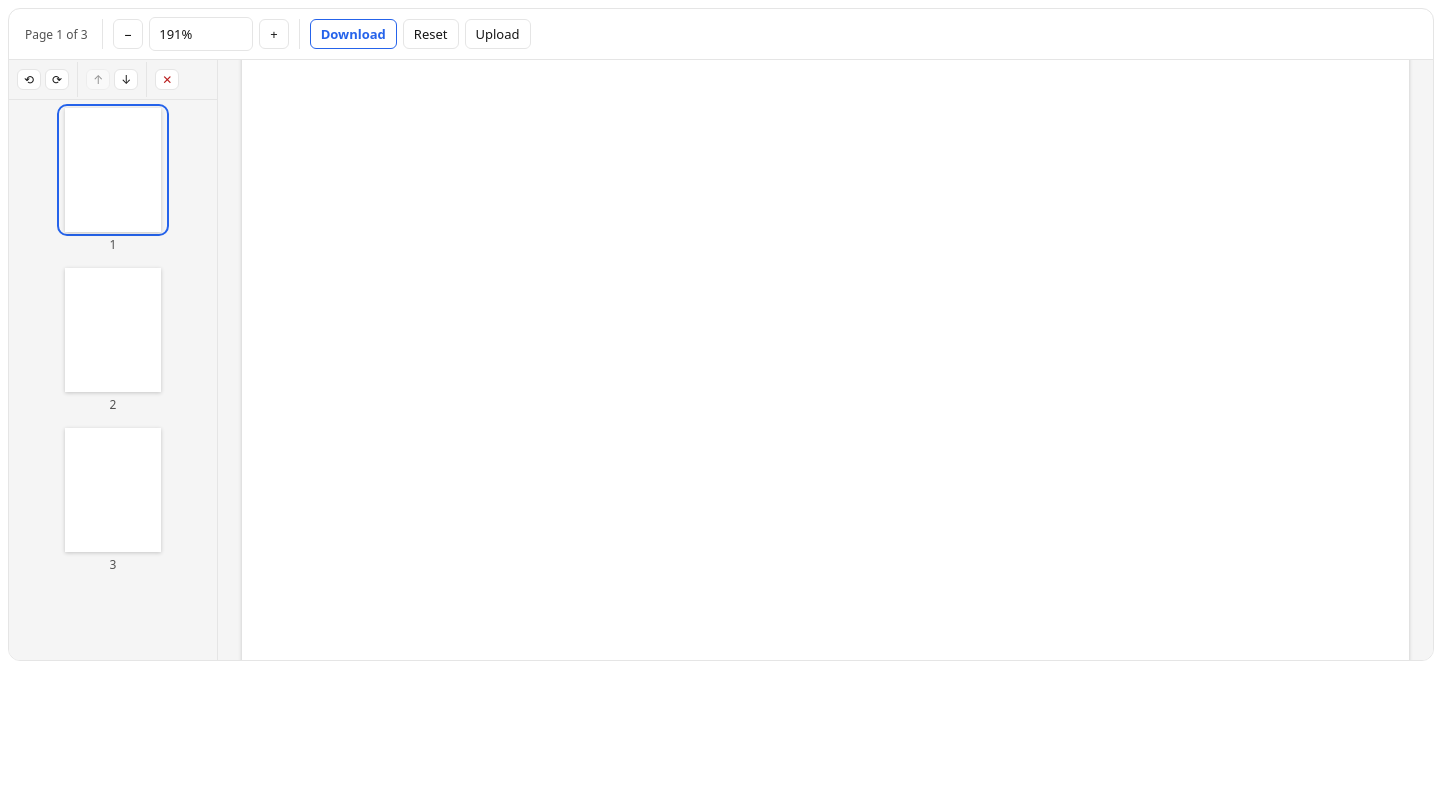
Test: PdfEditor › reports the active page when delete or move changes the selection
(page scrolled)
Expected: the text "Page 1 of 3" is shown, [21,26,92,42]
Step 1. Click the option named "Page 3" → (113, 500), box [65,428,161,573]
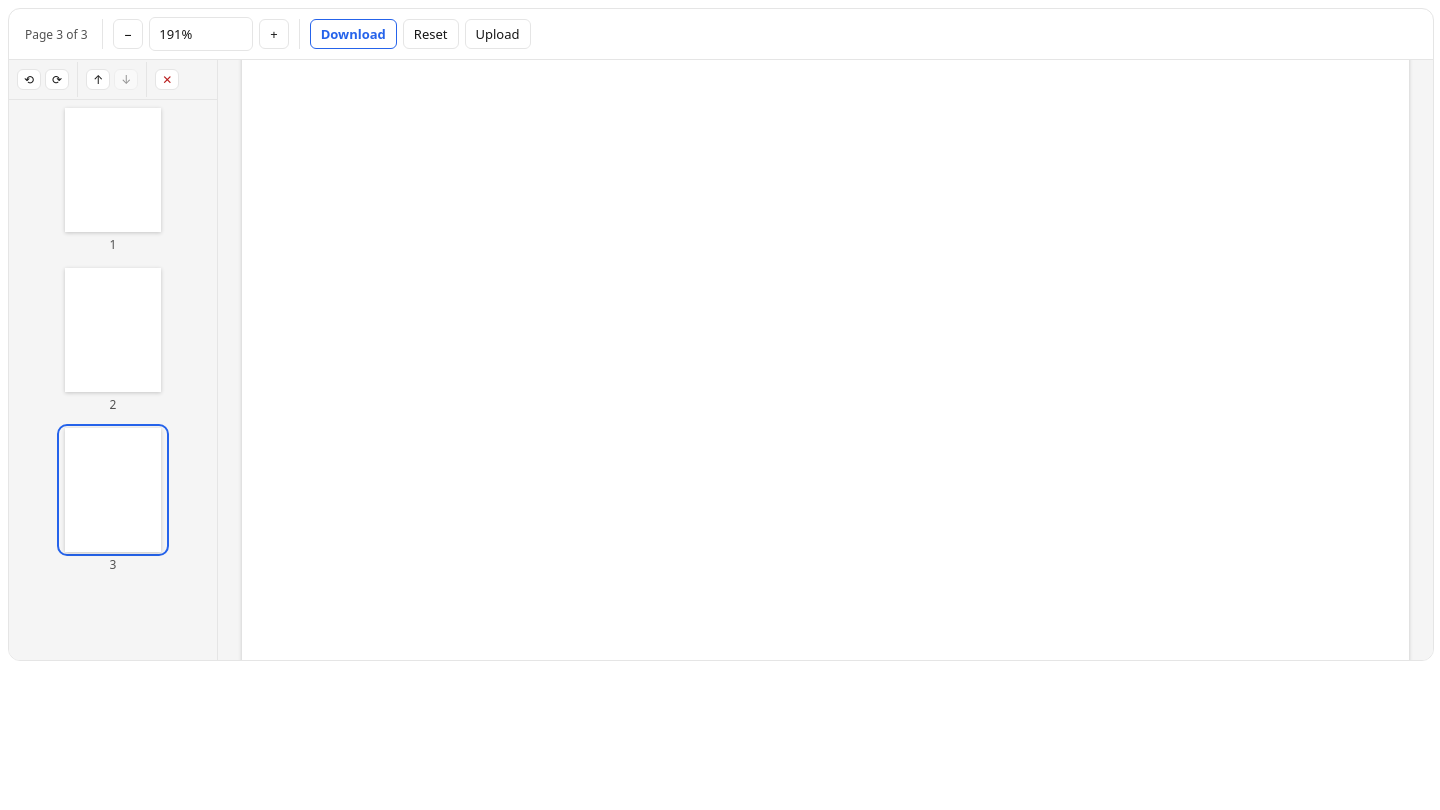
Step 2. Click the button named "Delete pages" → (167, 80), box [155,69,179,90]
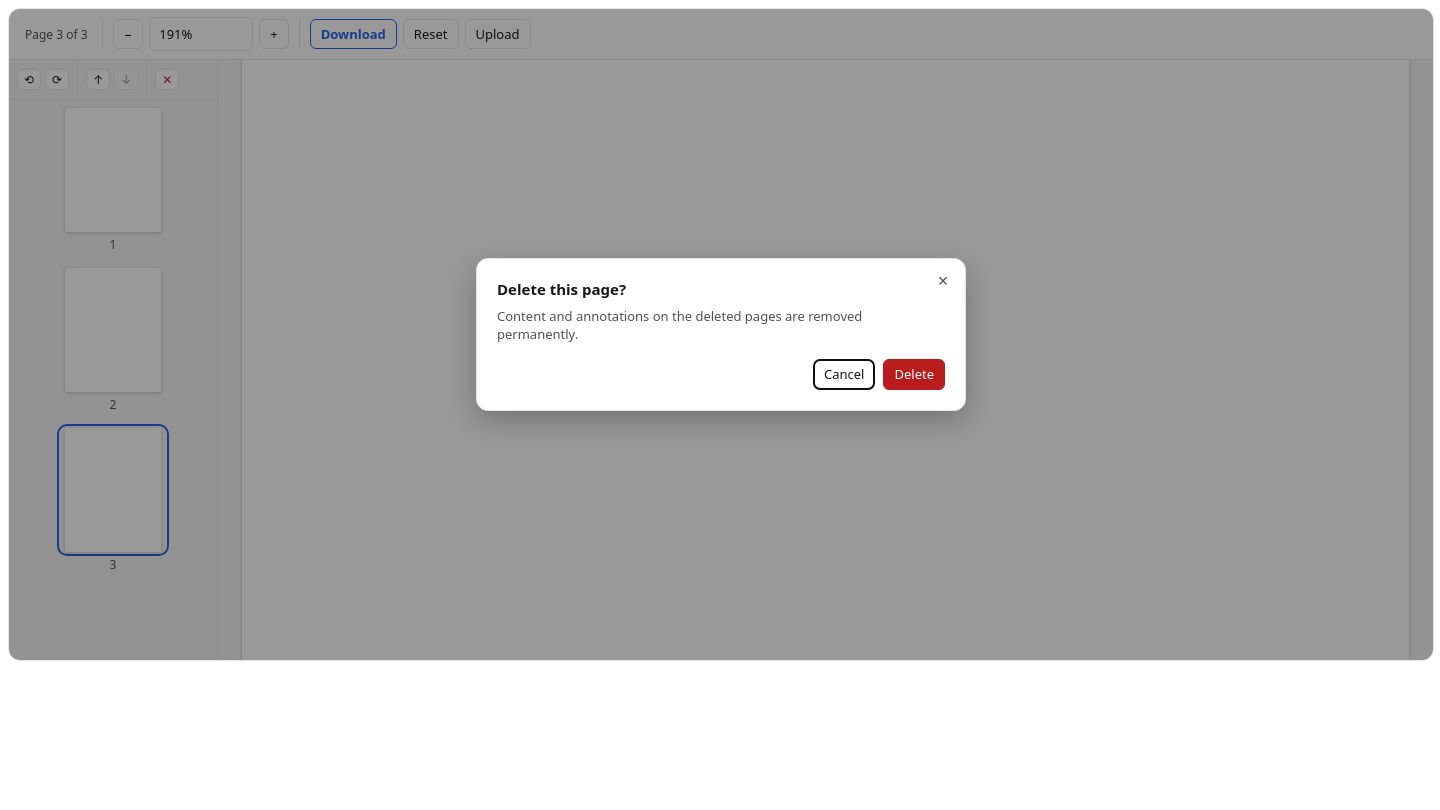
Step 3. Click the button "Delete" → (914, 375), box [884,359,945,390]
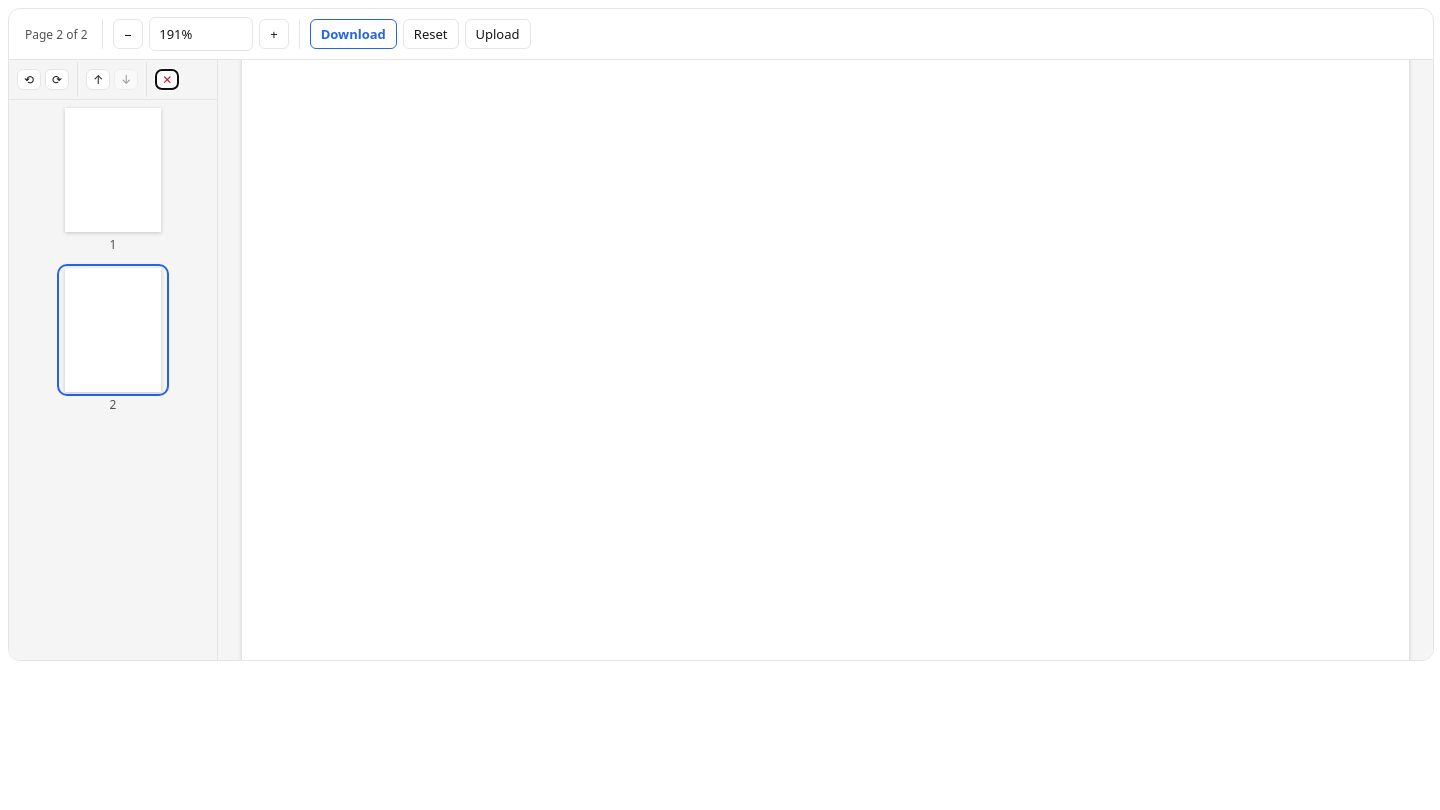
Result: the text with test id "pdf-editor-page-indicator" reads "Page 2 of 2" at [25,26,88,42]
Step 4. Click the button named "Move up" → (98, 80), box [86,69,110,90]
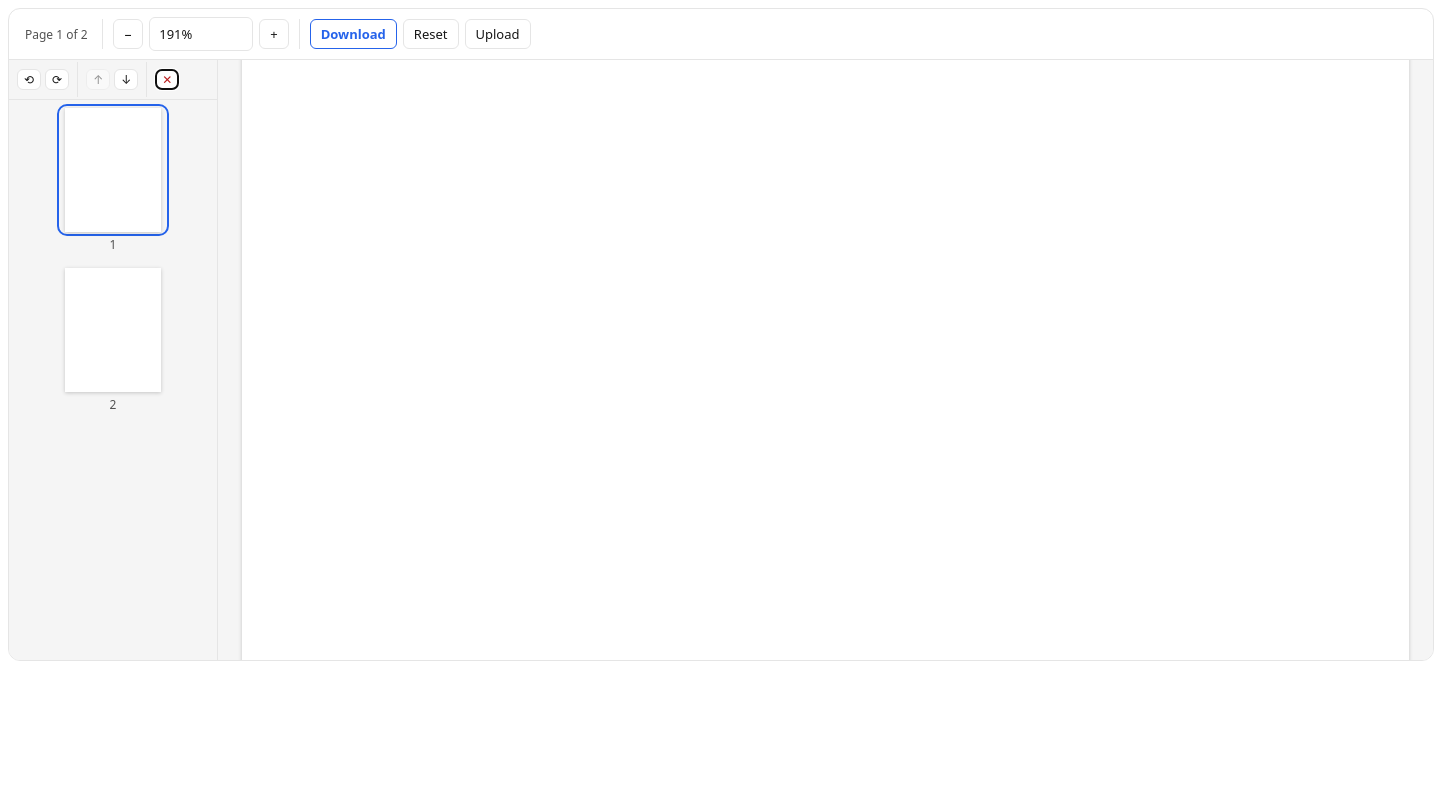
Result: the text with test id "pdf-editor-page-indicator" reads "Page 1 of 2" at [25,26,88,42]
